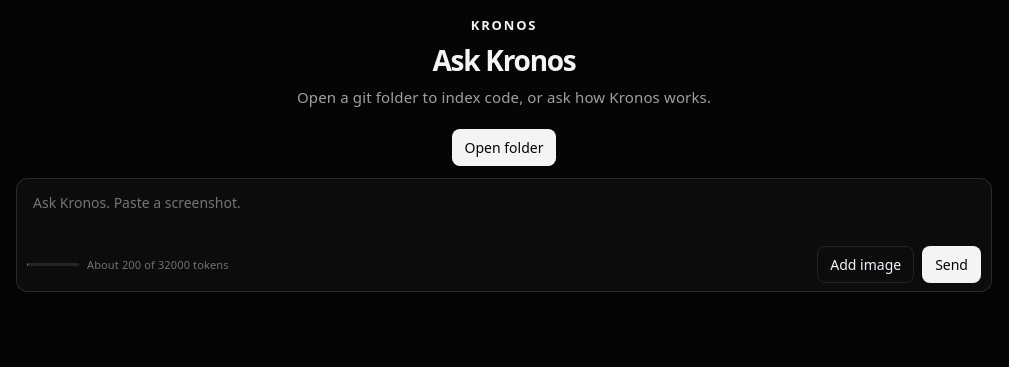
Test: ChatPage › retries the last user message after a reply
Type "Fix staff" into the text box named "Ask Kronos".
click(504, 214); type("Fix staff")  # box [27,189,981,238]
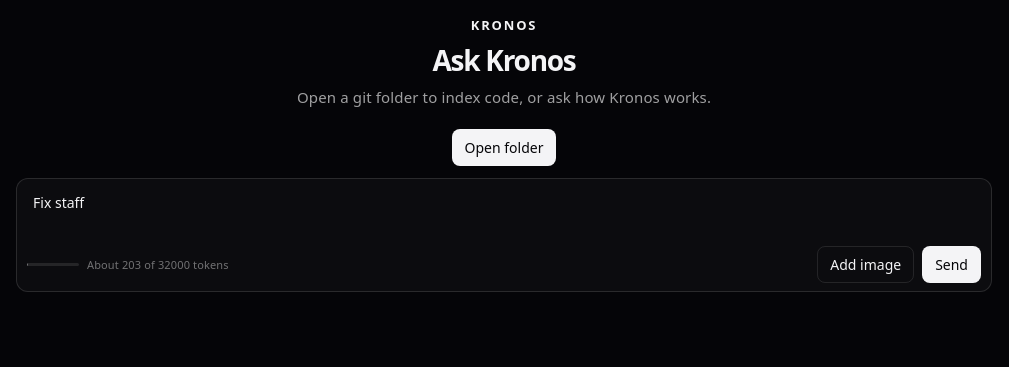
Click the button "Send".
click(952, 264)  # box [922,246,981,283]
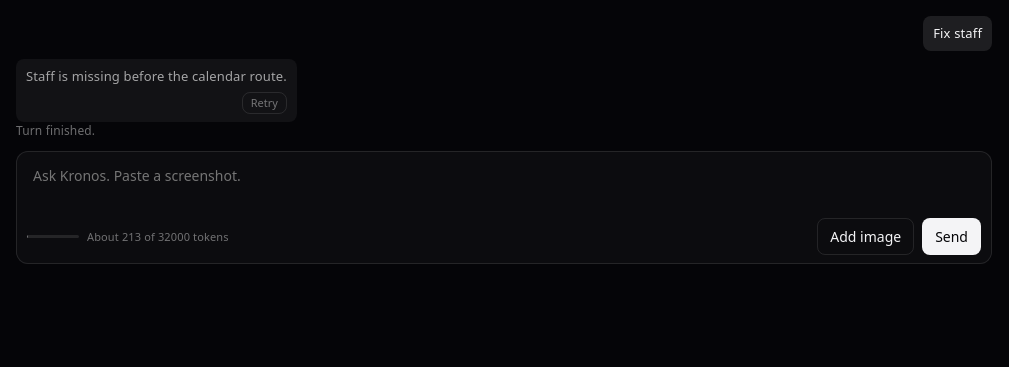
Expected: the text "Staff is missing before the calendar route." is shown, [26,67,287,85]
Type "draft keep" into the text box named "Ask Kronos".
click(504, 186); type("draft keep")  # box [27,162,981,210]
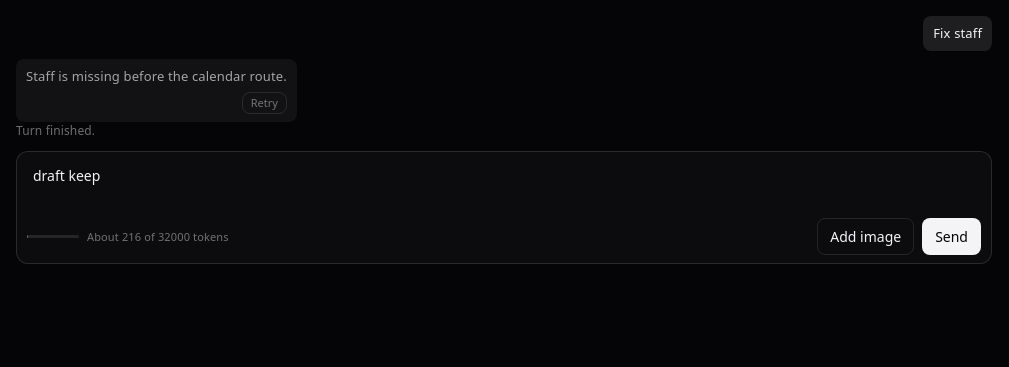
Click the button "Retry".
click(264, 103)  # box [242,92,287,114]
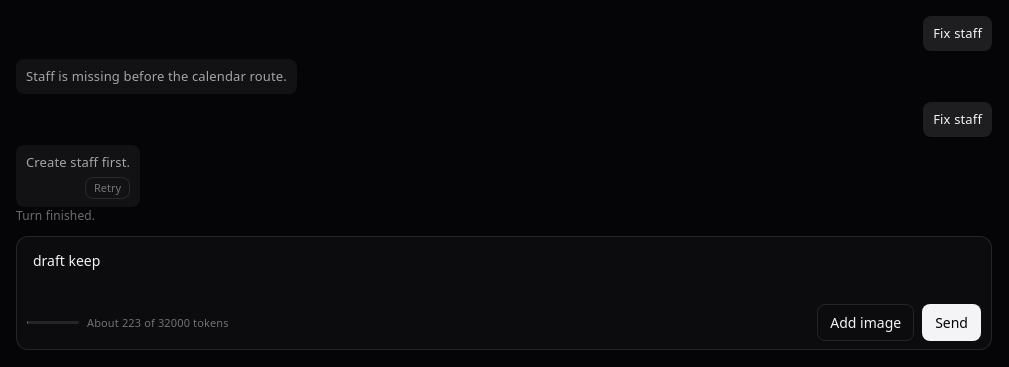
Expected: the text "Create staff first." is shown, [26,152,130,170]
